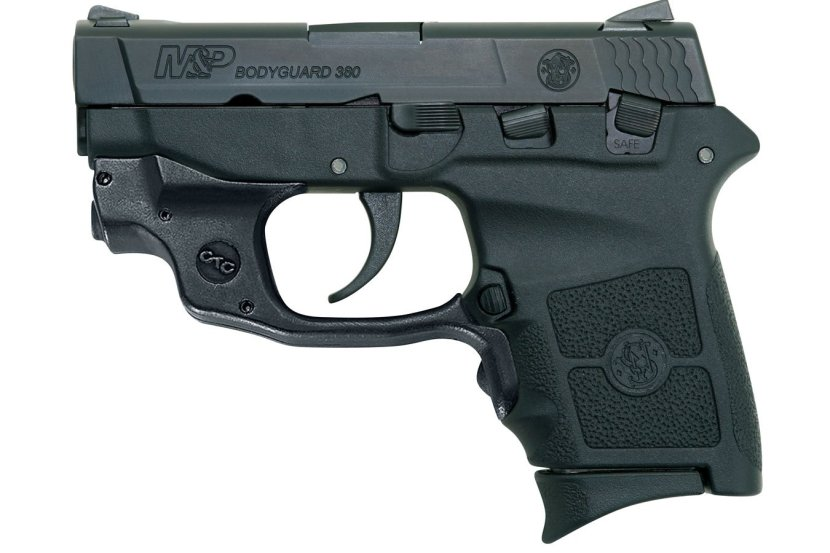gun: (58, 1, 780, 548)
